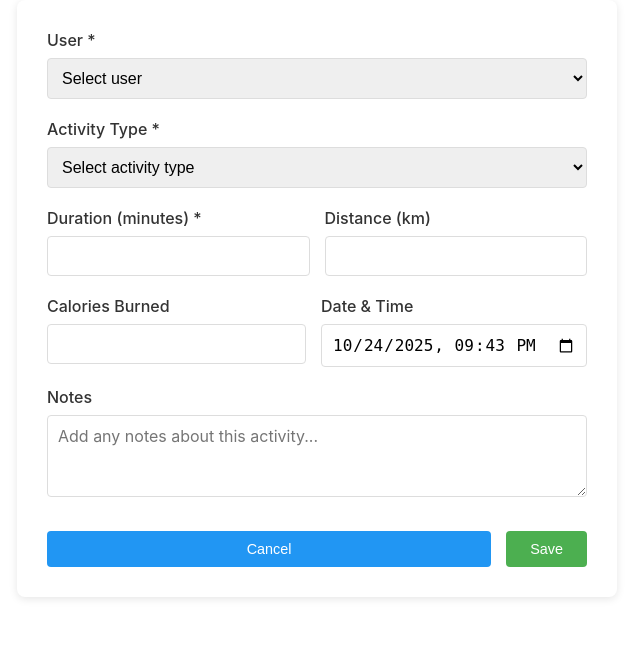
ActivityForm Component › should show validation error for empty activityType
Select "John Doe" in the dropdown labelled "User *" at (317, 78), box [47,58,587,99]
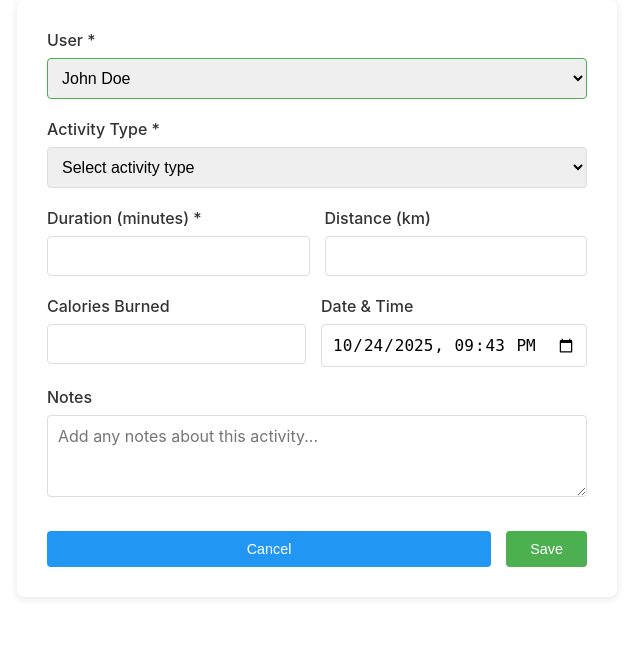
Click the button "Save" at (547, 549), box [506,531,587,567]
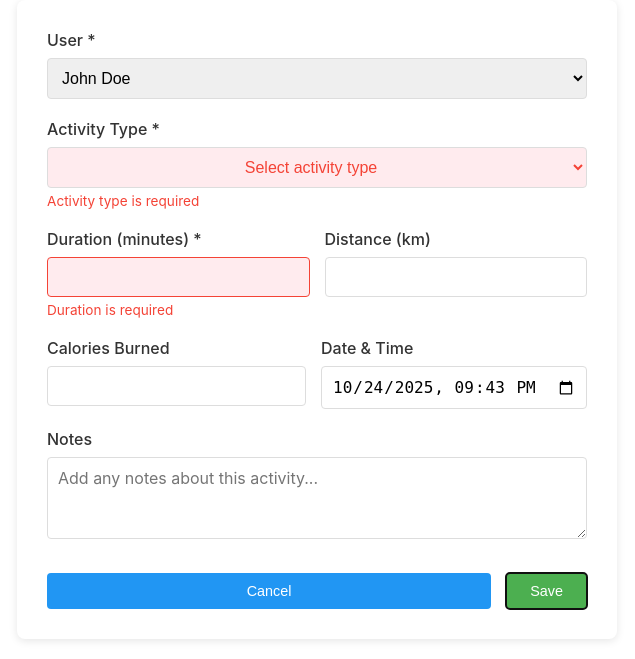
Expected: the text "Activity type is required" is shown, [47,193,199,209]
